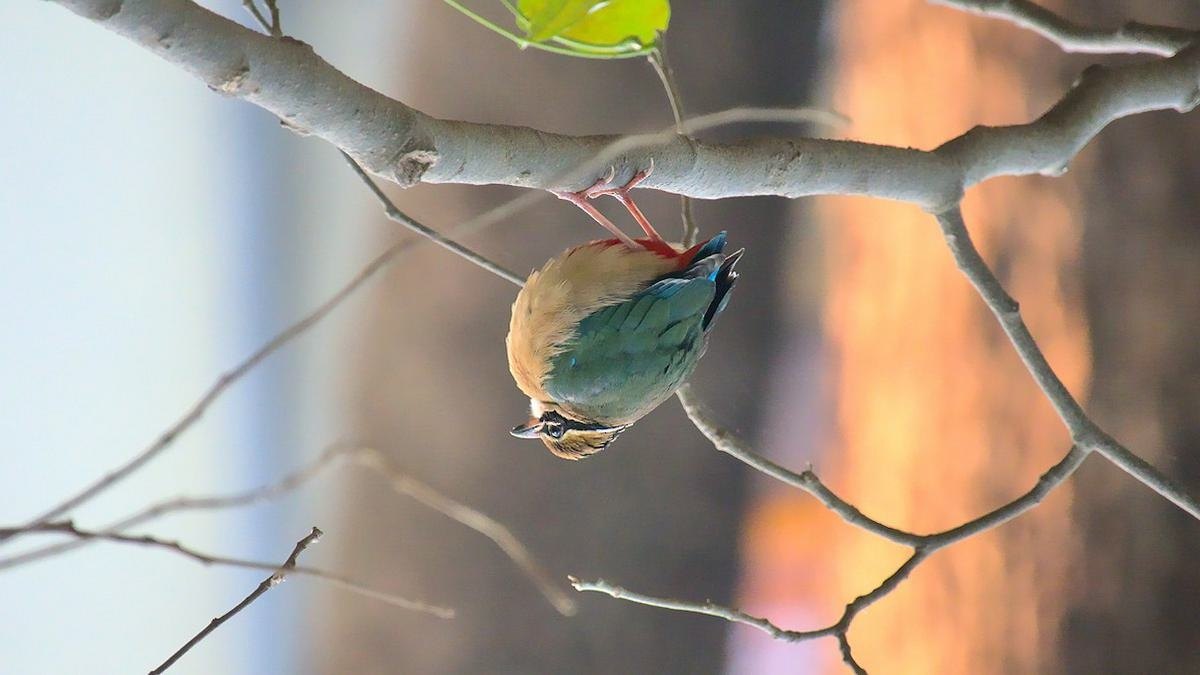pitta: (464, 127, 754, 485)
